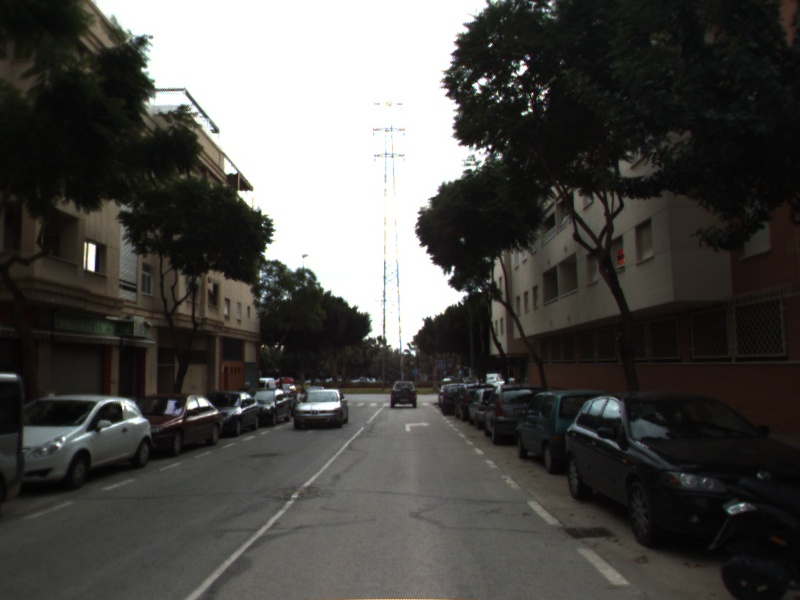RIGHT: (403, 419, 433, 433)
